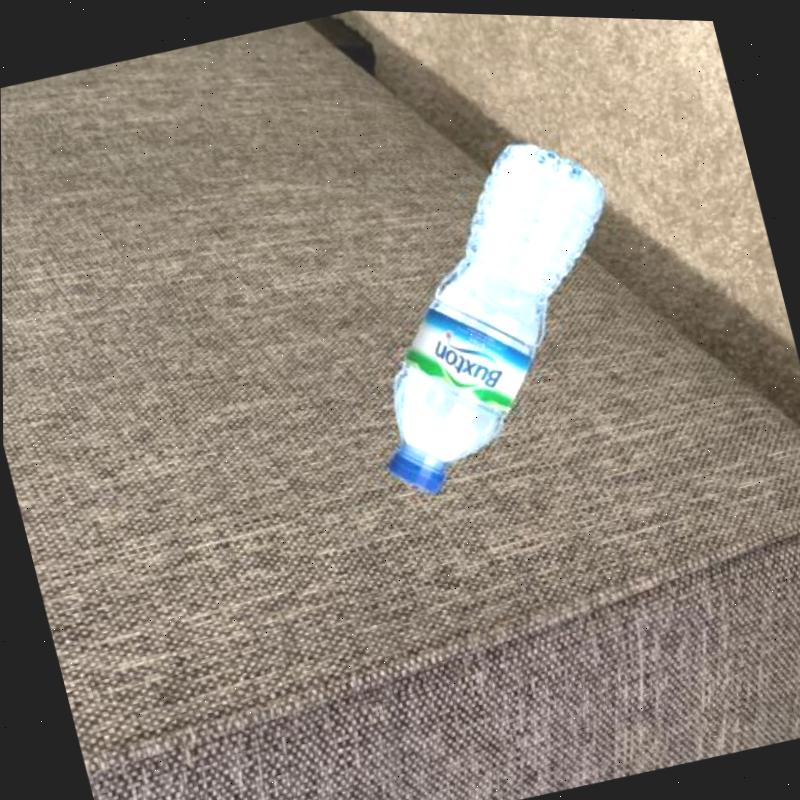botella: (312, 112, 676, 510)
